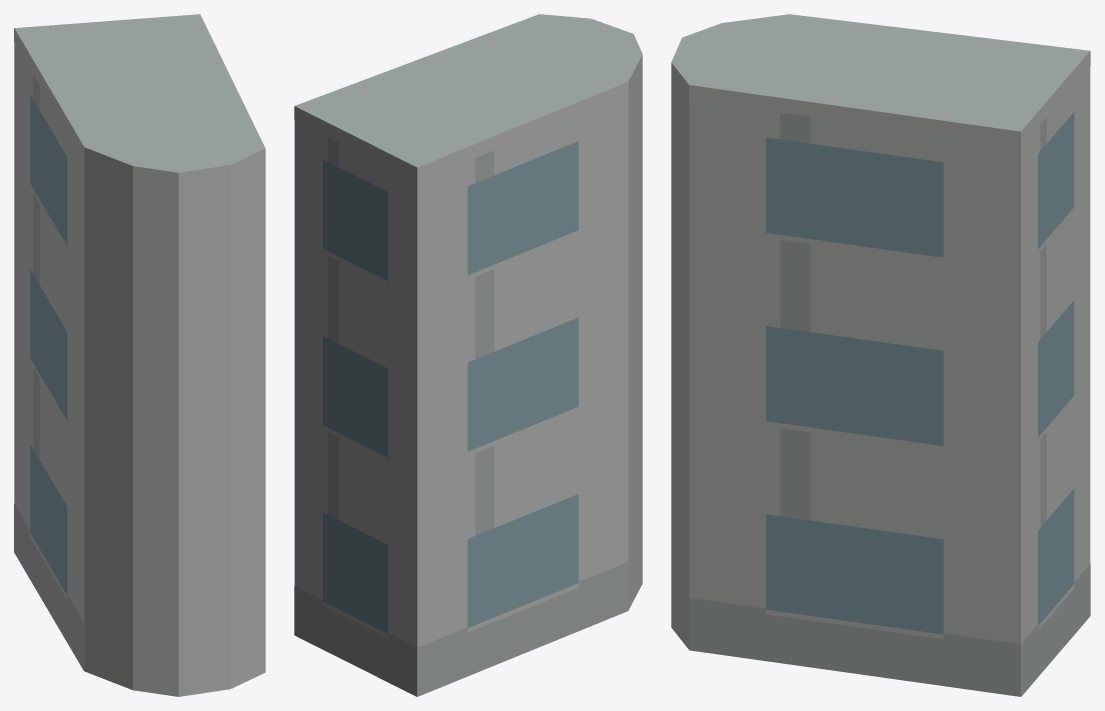
The model's file is survey-upis-32906487.glb.
3 views of the same model, side by side, from view 1: azimuth 30°, elevation 25°; view 2: azimuth 150°, elevation 25°; view 3: azimuth 270°, elevation 25° (orthographic). The views are drawn at different scales.
Visible parts, largest first — view 1: survey-upis-32906487.tmp; view 2: survey-upis-32906487.tmp; view 3: survey-upis-32906487.tmp.
Boxes of the visible parts, box(x1,y1,x2,y2) form: survey-upis-32906487.tmp: box(14, 14, 265, 696); survey-upis-32906487.tmp: box(294, 14, 642, 696); survey-upis-32906487.tmp: box(671, 14, 1090, 696).
Bounding box in the file's own units: 4.09 × 9.15 × 6.15.
